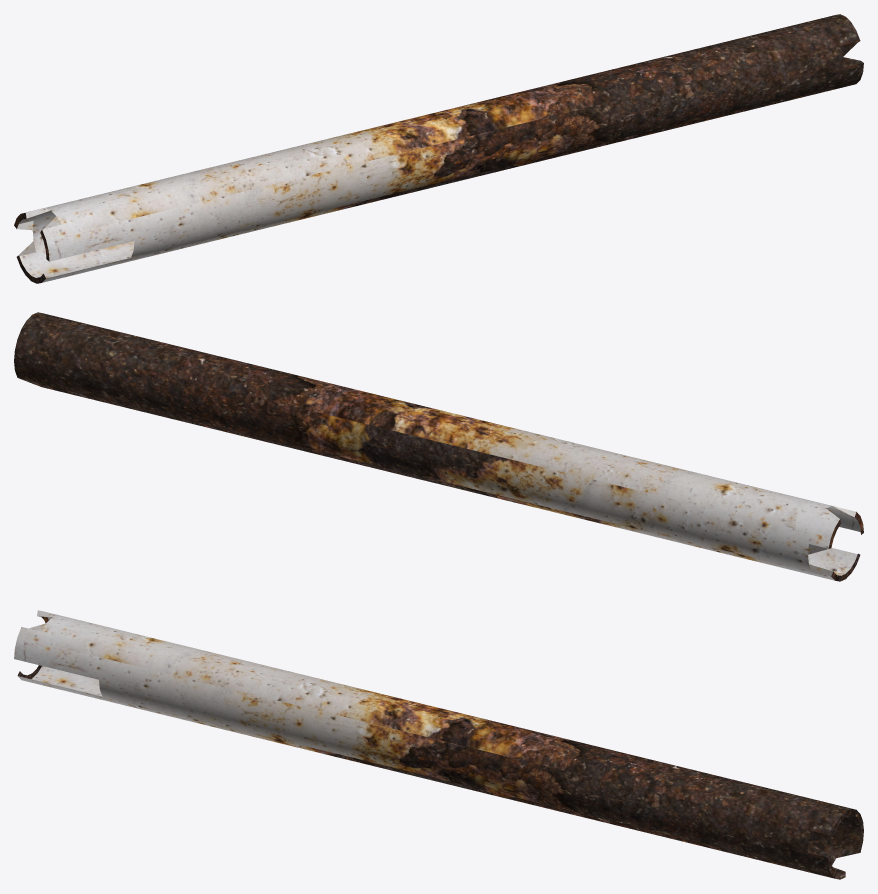
The model's file is CanoTotem.fbx.
The picture shows the model from 3 angles, top to bottom: view 1: azimuth 30°, elevation 25°; view 2: azimuth 150°, elevation 25°; view 3: azimuth 330°, elevation 25°; orthographic projection.
Visible parts, largest first — view 1: pCylinder1; view 2: pCylinder1; view 3: pCylinder1.
Part boxes in pixels (x1,y1,x2,y2): pCylinder1: (14,14,863,283); pCylinder1: (14,312,863,581); pCylinder1: (14,610,863,879).
Bounding box in the file's own units: 1.05 × 0.0811 × 0.0812.
Materials: 1 (1 with a texture image).
